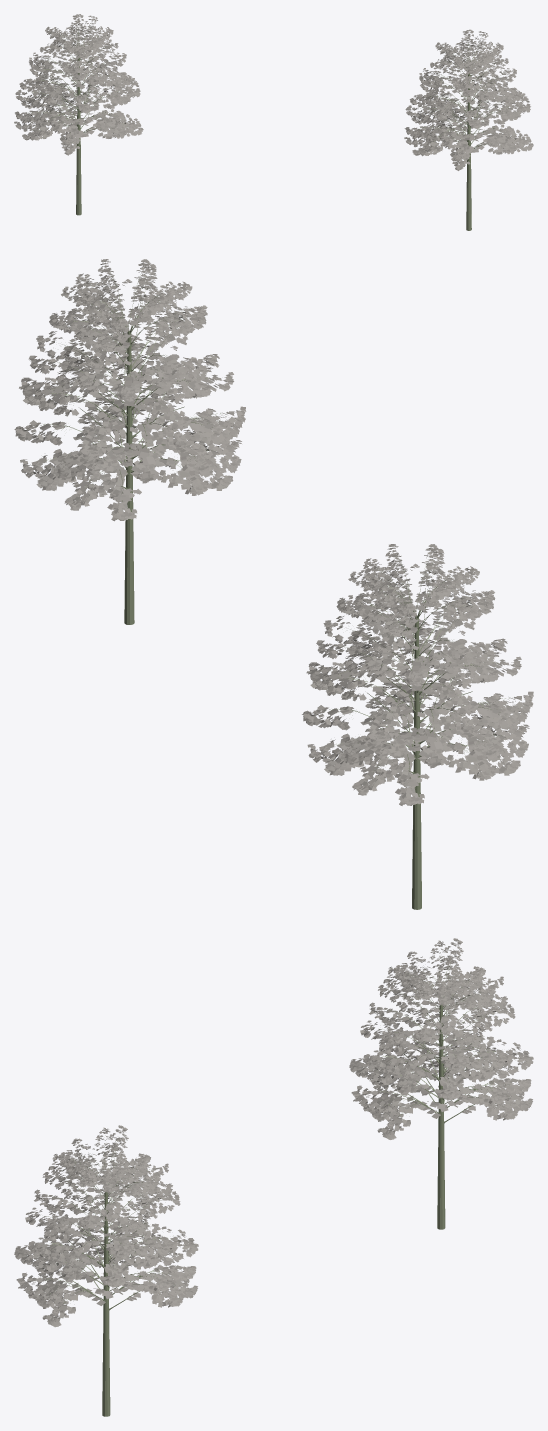
3 views of the same model, one above another, from view 1: azimuth 30°, elevation 25°; view 2: azimuth 150°, elevation 25°; view 3: azimuth 270°, elevation 25° (orthographic). The views are drawn at different scales.
Visible parts, largest first — view 1: 15DdZEMo1F5ujvsXFjkag_, 15DdZEMo1F5ujvsXFjkafP; view 2: 15DdZEMo1F5ujvsXFjkafP, 15DdZEMo1F5ujvsXFjkag_; view 3: 15DdZEMo1F5ujvsXFjkag_, 15DdZEMo1F5ujvsXFjkafP.
Boxes of the visible parts, bbox=[...] form: 15DdZEMo1F5ujvsXFjkag_: bbox=[404, 29, 533, 230]; 15DdZEMo1F5ujvsXFjkafP: bbox=[14, 14, 143, 215]; 15DdZEMo1F5ujvsXFjkafP: bbox=[302, 544, 533, 909]; 15DdZEMo1F5ujvsXFjkag_: bbox=[14, 259, 246, 624]; 15DdZEMo1F5ujvsXFjkag_: bbox=[14, 1125, 198, 1416]; 15DdZEMo1F5ujvsXFjkafP: bbox=[349, 938, 533, 1229].
Bounding box in the file's own units: 19.13 × 9.17 × 15.59.
